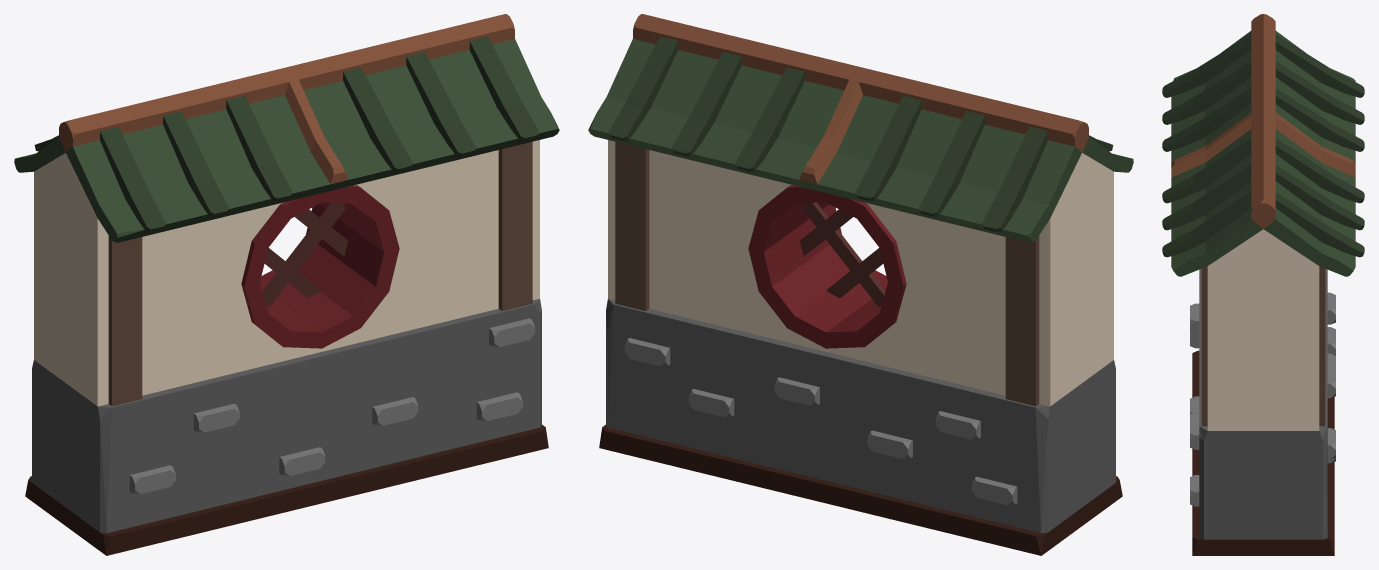
File: GardenWall_1 Asia.fbx
The picture shows the model from 3 angles, left to right: view 1: azimuth 30°, elevation 25°; view 2: azimuth 150°, elevation 25°; view 3: azimuth 270°, elevation 25°; orthographic projection. The views are drawn at different scales.
Visible parts, largest first — view 1: GardenWall_1; view 2: GardenWall_1; view 3: GardenWall_1.
Part boxes in pixels (x1=…): GardenWall_1: x1=14, y1=14, x2=559, y2=555; GardenWall_1: x1=588, y1=14, x2=1133, y2=555; GardenWall_1: x1=1162, y1=14, x2=1364, y2=555.
Bounding box in the file's own units: 3.23 × 2.82 × 1.46.
